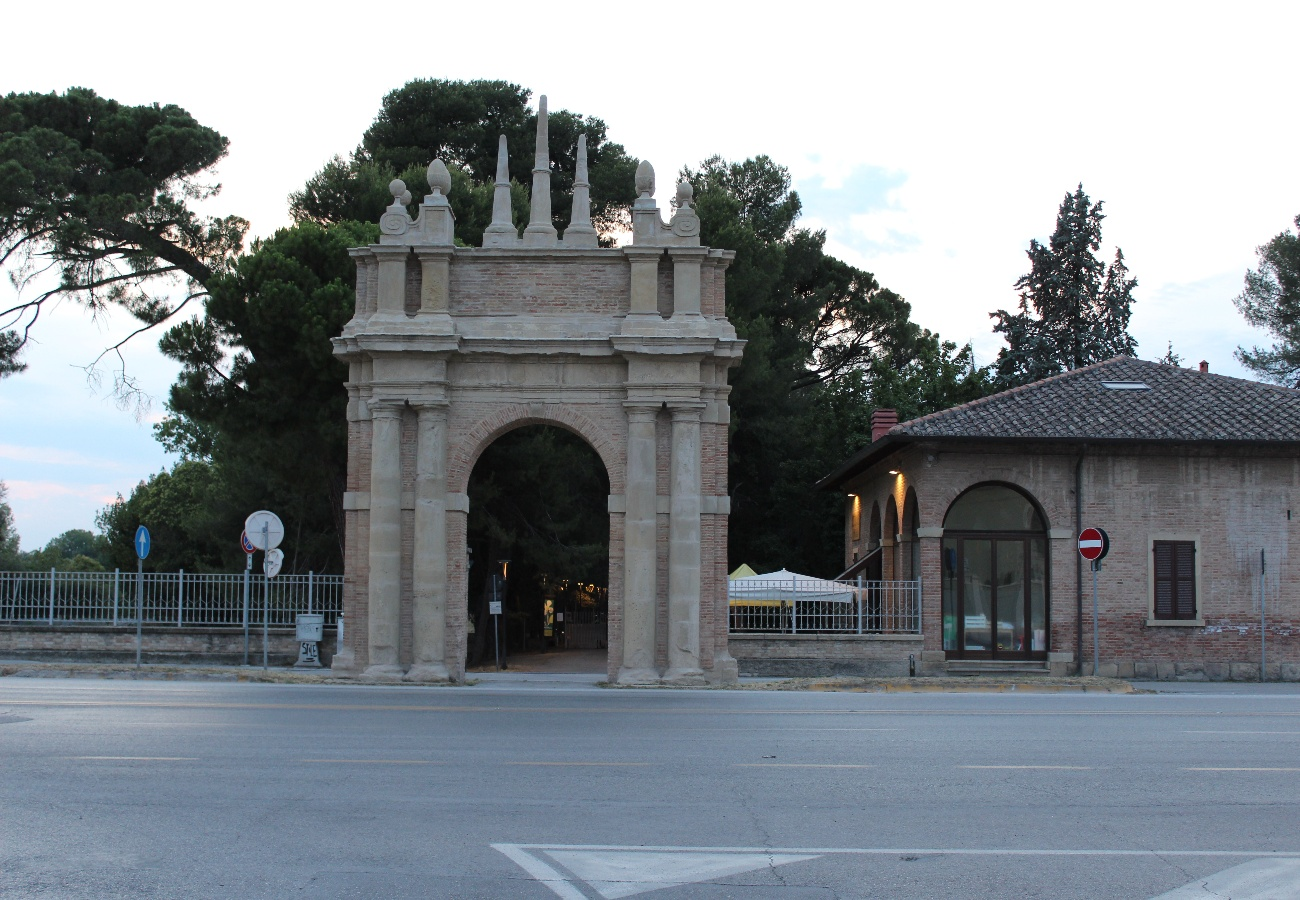Arco di Trionfo: (331, 93, 746, 689)
